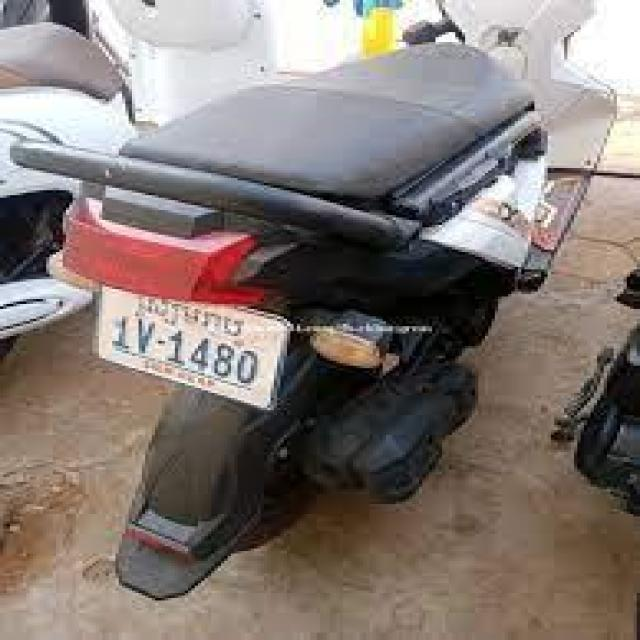Siem_Reap: (132, 289, 249, 336)
